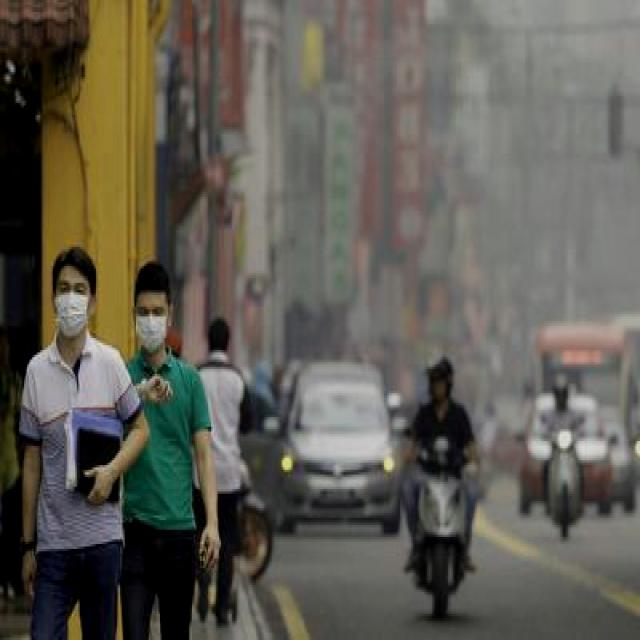face_mask: (56, 273, 91, 338), (134, 297, 170, 355)
hand_noglove: (81, 457, 119, 509), (198, 520, 224, 575), (18, 553, 41, 598), (146, 372, 174, 408)
head_nohelmet: (134, 252, 172, 302), (54, 249, 93, 276)
person: (5, 242, 134, 638), (122, 261, 203, 633), (398, 354, 477, 462)
